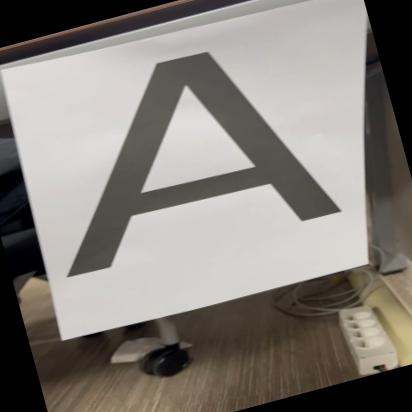seat: (16, 9, 347, 286)
